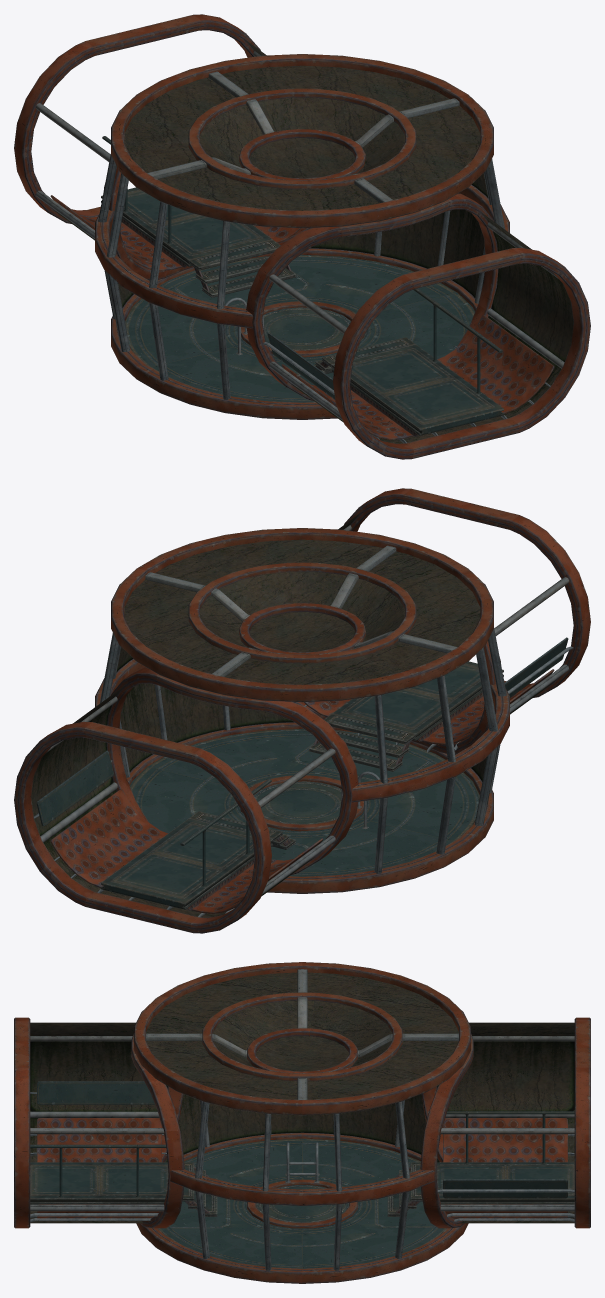
Rendered from tunnel_observation_circular_area.dae.
3 renders of one model, top to bottom at view 1: azimuth 30°, elevation 25°; view 2: azimuth 150°, elevation 25°; view 3: azimuth 270°, elevation 25°, orthographic. The views are drawn at different scales.
Parts seen in each view (by area): view 1: polySurface1111, polySurface1118; view 2: polySurface1111, polySurface1118; view 3: polySurface1111, polySurface1118.
Boxes of the visible parts, x1,y1,x2,y2 form: polySurface1111: [14, 14, 590, 459]; polySurface1118: [53, 39, 573, 443]; polySurface1111: [14, 488, 590, 933]; polySurface1118: [31, 513, 551, 917]; polySurface1111: [14, 962, 590, 1283]; polySurface1118: [30, 972, 574, 1223].
Bounding box in the file's own units: 9.48 × 5.14 × 14.92.
